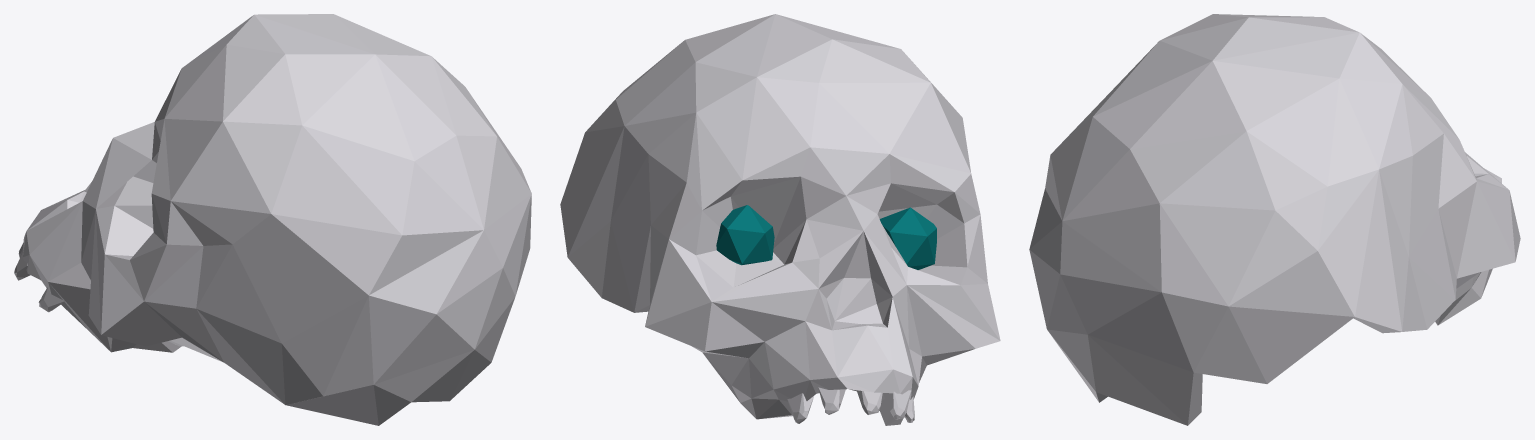
Rendered from Skull_Single.fbx.
3 views of the same model, side by side, from view 1: azimuth 30°, elevation 25°; view 2: azimuth 150°, elevation 25°; view 3: azimuth 270°, elevation 25° (orthographic). The views are drawn at different scales.
Visible parts, largest first — view 1: Skull_Single; view 2: Skull_Single; view 3: Skull_Single.
Boxes of the visible parts, x1,y1,x2,y2 form: Skull_Single: (14, 14, 531, 425); Skull_Single: (560, 14, 1000, 425); Skull_Single: (1029, 14, 1520, 425).
Bounding box in the file's own units: 0.4846 × 0.3738 × 0.4857.
